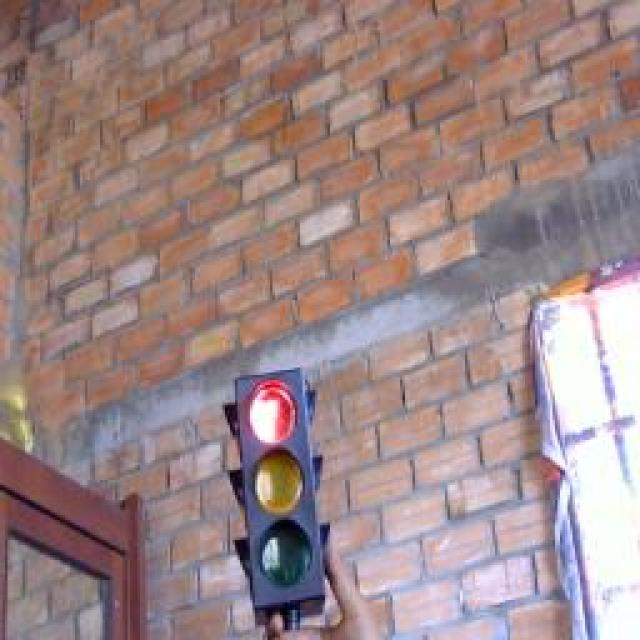-: (238, 373, 306, 448)
